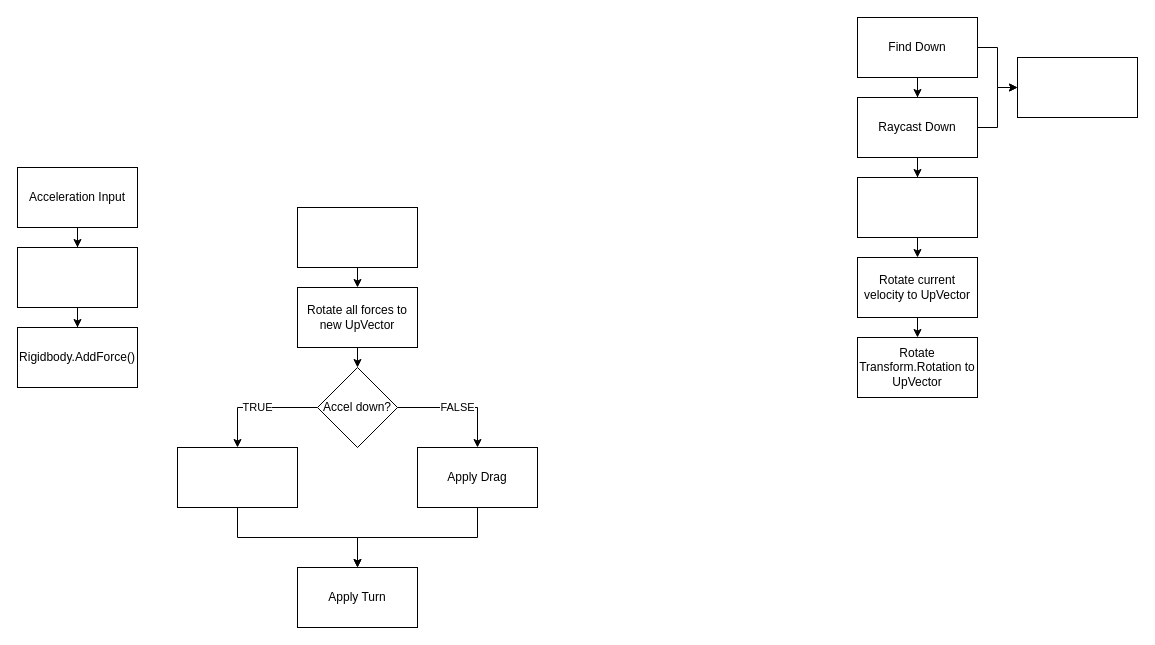
Some shapes in this 1155 by 645 pixel diagram are drawn without their labels. The shapes that lost their labels are listed below. From the top down, each one's box as (x1, y1, x2, y2) in pixels, then its label:
(1016, 56, 1138, 118): Transform.rotation * Vector3.Down
(856, 176, 978, 238): Return RayHit.normal as UpVector
(296, 206, 418, 268): Calculate UpVector
(16, 246, 138, 308): VelCurve.Evaluate
(176, 446, 298, 508): Apply Accel (Rotated to UpVector)
